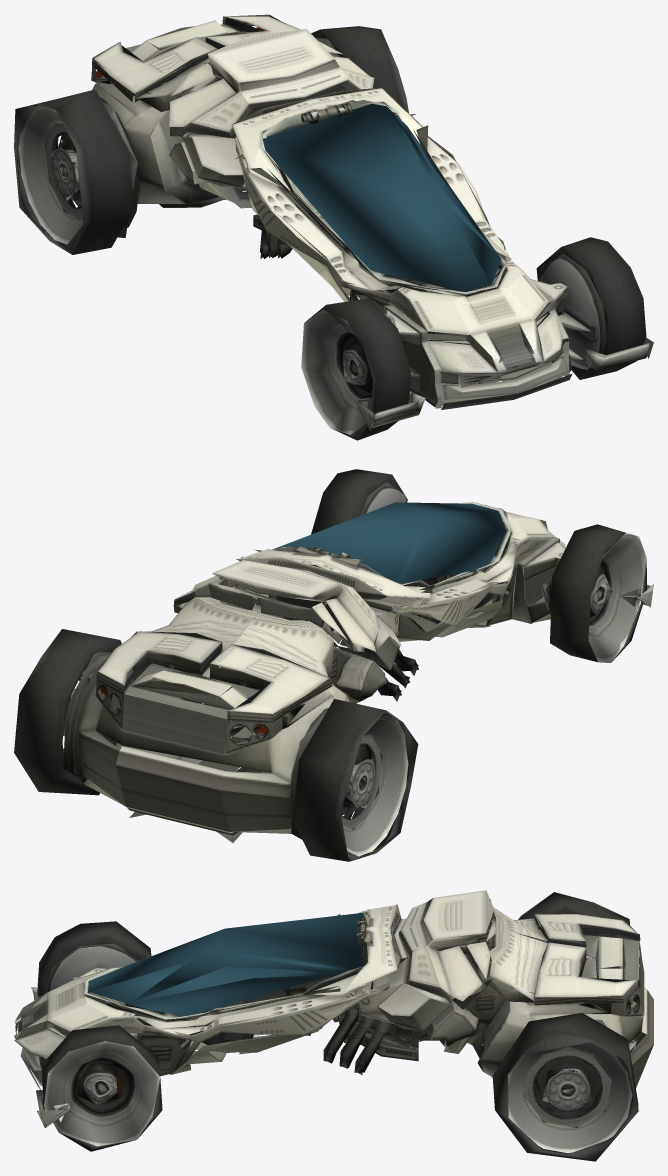
The model's file is bs-interceptor-lod.glb.
3 views of the same model, one above another, from view 1: azimuth 30°, elevation 25°; view 2: azimuth 150°, elevation 25°; view 3: azimuth 270°, elevation 25° (orthographic). The views are drawn at different scales.
Visible parts, largest first — view 1: bs_interceptor; view 2: bs_interceptor; view 3: bs_interceptor.
Part boxes in pixels (box(x1,y1,x2,y2)): bs_interceptor: box(14, 14, 653, 440); bs_interceptor: box(14, 469, 653, 861); bs_interceptor: box(14, 890, 653, 1161).
Size of the model in its own units: 2.41 by 1.47 by 4.61.
Materials: 2 (1 with a texture image).
